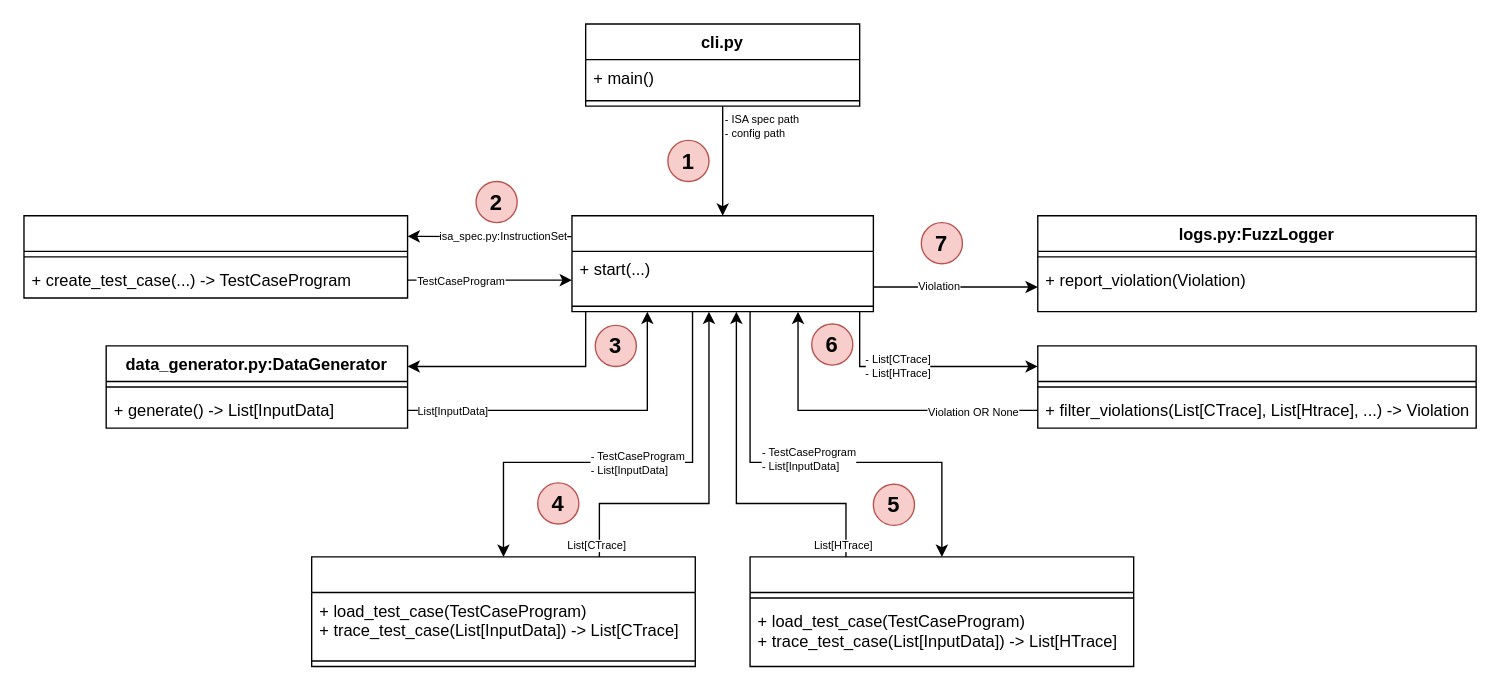
Image size: 1500x695. Some labels were removed from this diagram. Each missing label, with the box of its shape:
analyzer.py:Analyser: (1036, 345, 1476, 428)
code_generator.py:CodeGenerator: (23, 214, 408, 298)
executor.py:Executor: (749, 556, 1134, 667)
fuzzer.py:Fuzzer: (571, 214, 873, 312)
model.py:Model: (310, 556, 695, 667)
